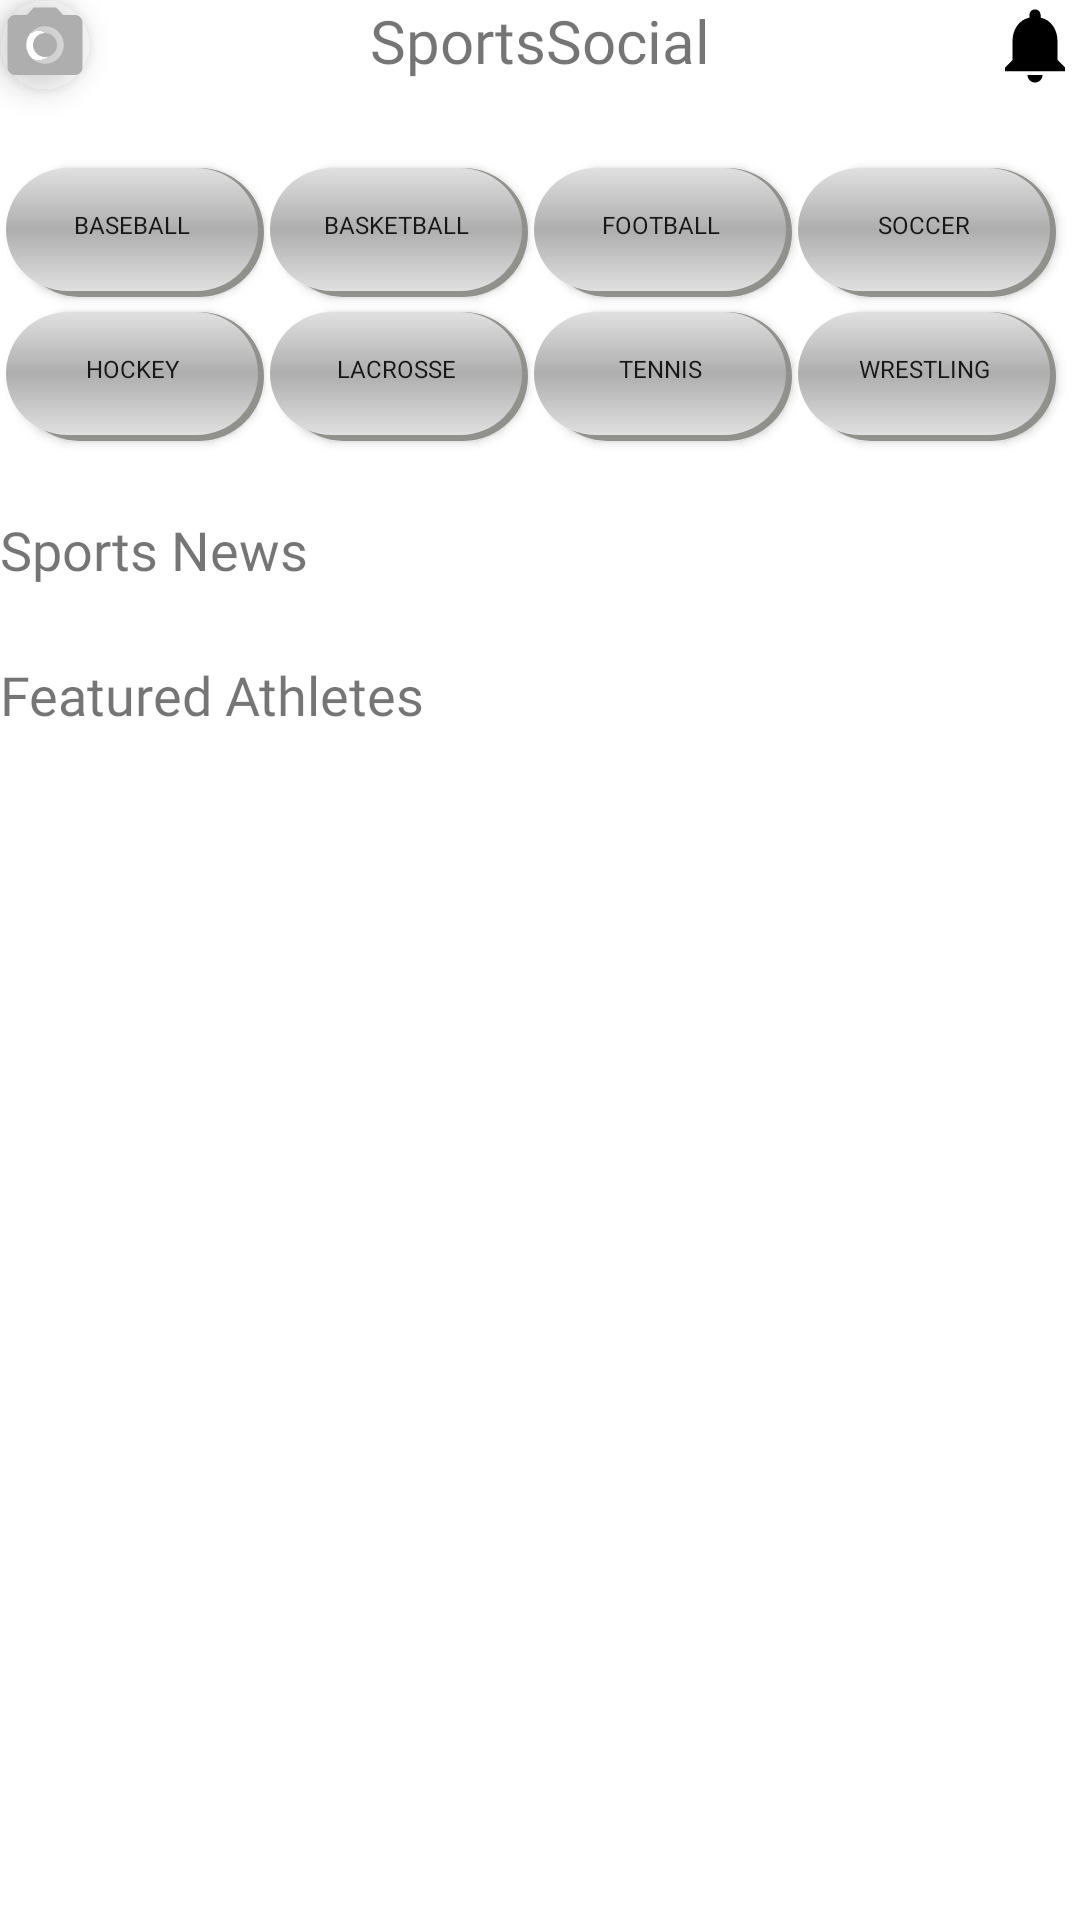

Screen size 1080px×1920px. Icon name, then its box in pixels as (x1, y1, x2, y2):
notifications: (1005, 9, 1065, 83)
photo camera: (7, 7, 83, 76)
